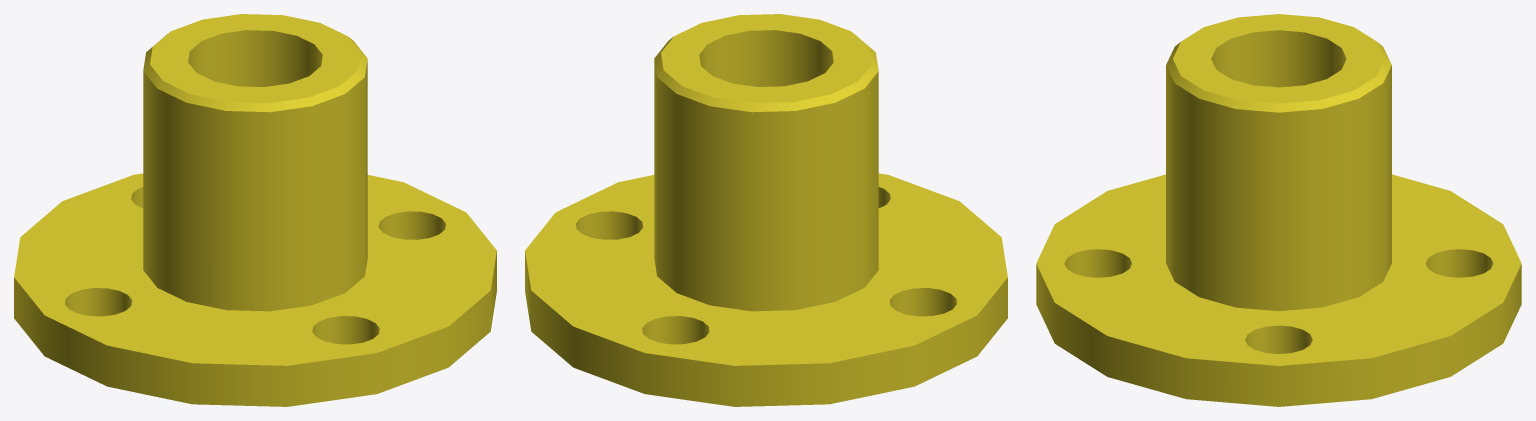
3 renders of one model, left to right at view 1: azimuth 30°, elevation 25°; view 2: azimuth 150°, elevation 25°; view 3: azimuth 270°, elevation 25°, orthographic.
Visible parts, largest first — view 1: mesh3258, mesh3259, mesh3265, mesh3256, mesh3255, mesh3257, mesh3263, mesh3264, mesh3262; view 2: mesh3258, mesh3259, mesh3265, mesh3256, mesh3255, mesh3257, mesh3261, mesh3264, mesh3262; view 3: mesh3258, mesh3259, mesh3265, mesh3256, mesh3255, mesh3257, mesh3264, mesh3261, mesh3263.
Part boxes in pixels (x1,y1,x2,y2): mesh3258: (143,60,367,311); mesh3259: (14,173,496,365); mesh3265: (14,251,496,406); mesh3256: (150,14,360,103); mesh3255: (188,30,322,86); mesh3257: (143,34,367,112); mesh3263: (312,316,379,344); mesh3264: (378,211,445,239); mesh3262: (65,288,132,316); mesh3258: (654,60,878,311); mesh3259: (525,173,1007,365); mesh3265: (525,251,1007,406); mesh3256: (661,14,871,103); mesh3255: (699,30,833,86); mesh3257: (654,34,878,112); mesh3261: (642,316,709,344); mesh3264: (576,211,643,239); mesh3262: (889,288,956,316); mesh3258: (1166,65,1391,310); mesh3259: (1036,174,1521,365); mesh3265: (1036,264,1521,406); mesh3256: (1173,14,1384,103); mesh3255: (1211,30,1346,87); mesh3257: (1166,42,1391,112); mesh3264: (1245,325,1312,353); mesh3261: (1426,249,1493,277); mesh3263: (1064,249,1131,277).
Bounding box in the file's own units: 0.0215 × 0.012 × 0.0215.
